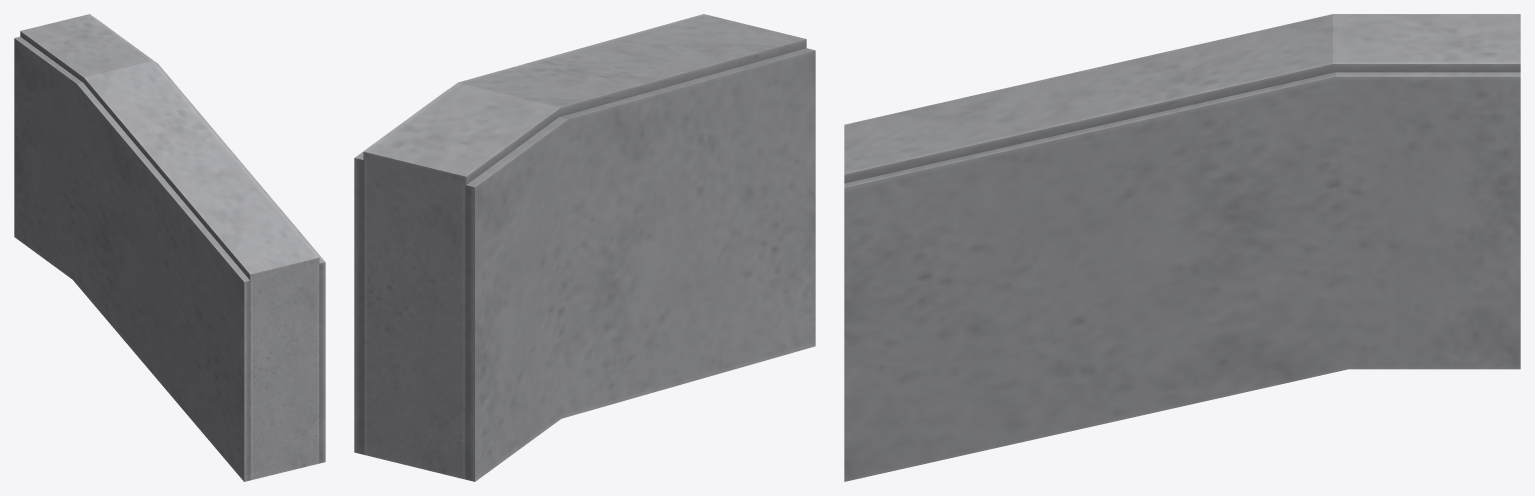
The model's file is set_curb_slope_start.fbx.
3 renders of one model, left to right at view 1: azimuth 30°, elevation 25°; view 2: azimuth 150°, elevation 25°; view 3: azimuth 270°, elevation 25°, orthographic. The views are drawn at different scales.
Visible parts, largest first — view 1: set_curb_slope_start; view 2: set_curb_slope_start; view 3: set_curb_slope_start.
Boxes of the visible parts, <box> form: set_curb_slope_start: <box>14,14,325,481</box>; set_curb_slope_start: <box>354,14,815,481</box>; set_curb_slope_start: <box>844,14,1520,481</box>.
Size of the model in its own units: 30 by 98.98 by 147.
